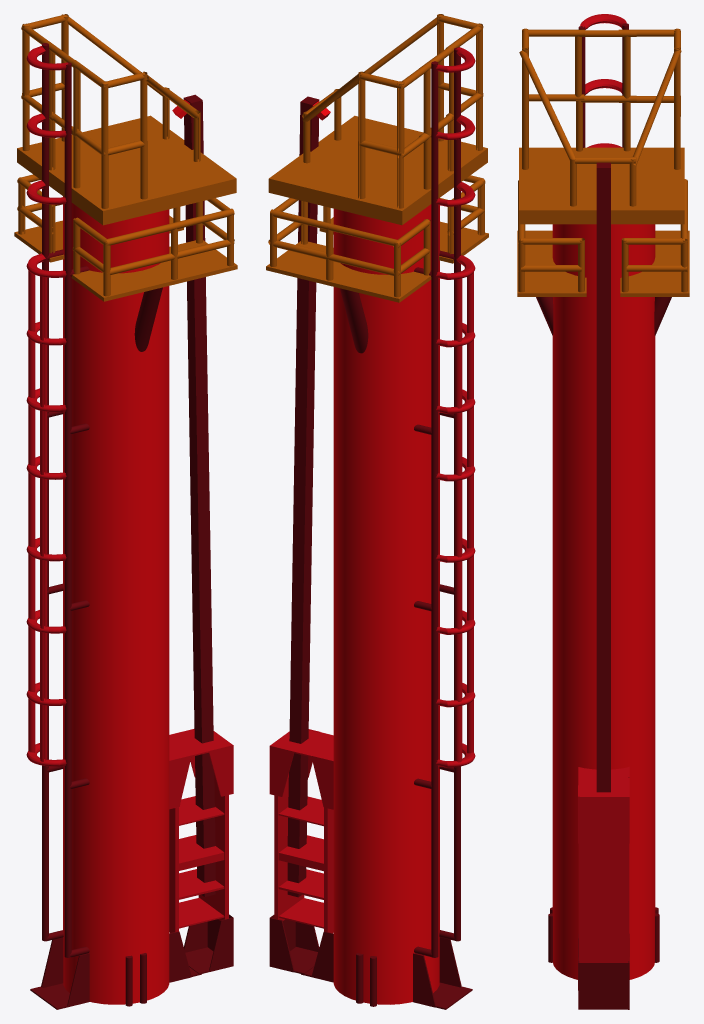
The model's file is AmericaTower.fbx.
The picture shows the model from 3 angles, left to right: view 1: azimuth 30°, elevation 25°; view 2: azimuth 150°, elevation 25°; view 3: azimuth 270°, elevation 25°; orthographic projection. The views are drawn at different scales.
Visible parts, largest first — view 1: Cylinder, Cube.011, Cube.014, Cylinder.007, Cylinder.017, Cube.012, Cylinder.008, Cylinder.018, Cube.002, Cube, Cube.005, Cube.006 (+14 smaller); view 2: Cylinder, Cube.011, Cube.014, Cylinder.008, Cylinder.018, Cube.013, Cylinder.007, Cylinder.017, Cube.002, Cube, Cube.005, Cube.006 (+14 smaller); view 3: Cylinder, Cube.014, Cube.011, Cube.005, Cube.006, Cube.002, Cube.012, Cube.013, Cylinder.069, Cylinder.068, Cube.004, Cylinder.064 (+8 smaller).
Part boxes in pixels (bbox=[...]): Cylinder: bbox=[63, 196, 169, 1004]; Cube.011: bbox=[183, 94, 215, 896]; Cube.014: bbox=[17, 115, 236, 225]; Cylinder.007: bbox=[64, 62, 71, 957]; Cylinder.017: bbox=[40, 276, 47, 761]; Cube.012: bbox=[71, 240, 237, 301]; Cylinder.008: bbox=[42, 43, 48, 941]; Cylinder.018: bbox=[28, 270, 35, 752]; Cube.002: bbox=[184, 914, 233, 974]; Cube: bbox=[30, 937, 89, 1009]; Cube.005: bbox=[198, 774, 228, 920]; Cube.006: bbox=[172, 729, 233, 796]; Cylinder: bbox=[333, 198, 439, 1004]; Cube.011: bbox=[287, 96, 319, 897]; Cube.014: bbox=[268, 115, 487, 225]; Cylinder.008: bbox=[431, 61, 438, 957]; Cylinder.018: bbox=[455, 278, 462, 762]; Cube.013: bbox=[266, 241, 431, 302]; Cylinder.007: bbox=[454, 47, 460, 941]; Cylinder.017: bbox=[467, 272, 473, 753]; Cube.002: bbox=[269, 915, 319, 974]; Cube: bbox=[413, 937, 472, 1009]; Cube.005: bbox=[274, 773, 304, 920]; Cube.006: bbox=[269, 729, 328, 796]; Cylinder: bbox=[552, 224, 655, 979]; Cube.014: bbox=[519, 147, 684, 224]; Cube.011: bbox=[596, 162, 610, 792]; Cube.005: bbox=[578, 843, 629, 962]; Cube.006: bbox=[578, 780, 629, 843]; Cube.002: bbox=[578, 957, 629, 1009]; Cube.012: bbox=[517, 230, 586, 296]; Cube.013: bbox=[620, 230, 689, 296]; Cylinder.069: bbox=[519, 49, 575, 160]; Cylinder.068: bbox=[633, 48, 681, 165]; Cube.004: bbox=[578, 766, 629, 782]; Cylinder.064: bbox=[623, 36, 630, 98].
Size of the model in its own units: 124 by 586 by 101.
